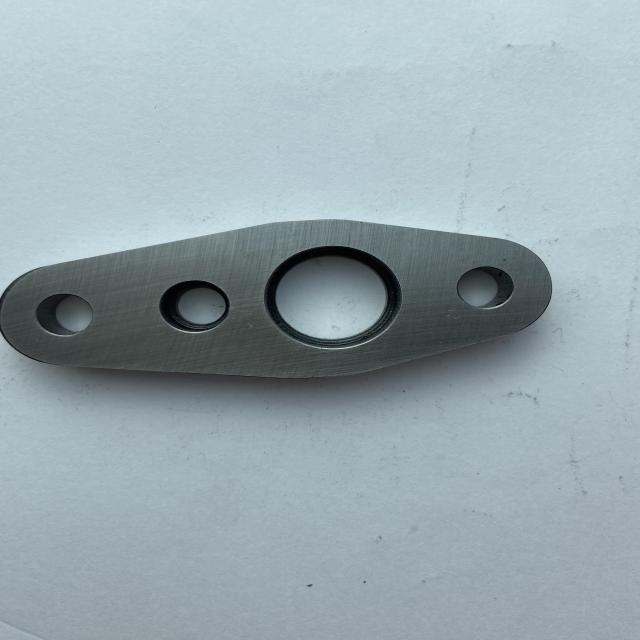chap: (445, 308, 459, 320), (246, 321, 255, 329)
